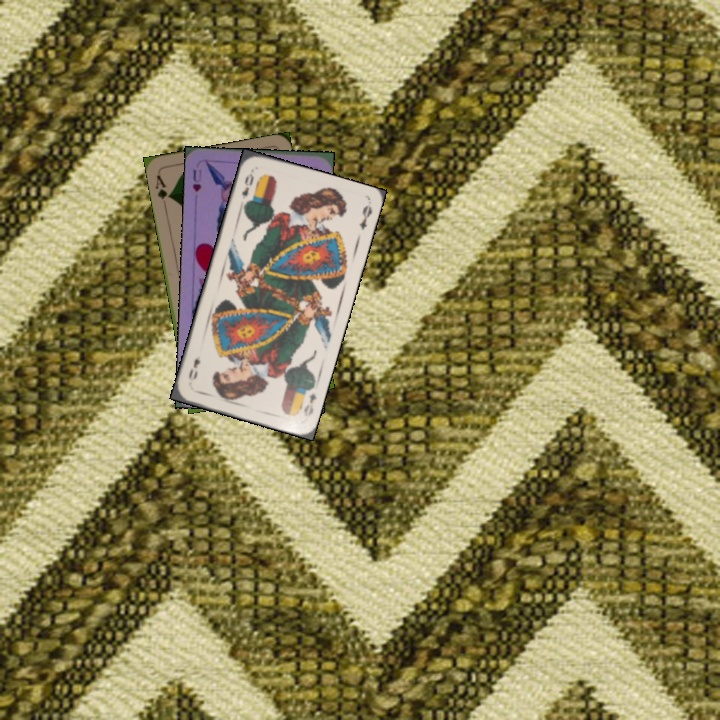EO: (237, 170, 256, 207), (299, 389, 319, 419)
GA: (151, 171, 173, 210)
HU: (188, 165, 204, 194)
